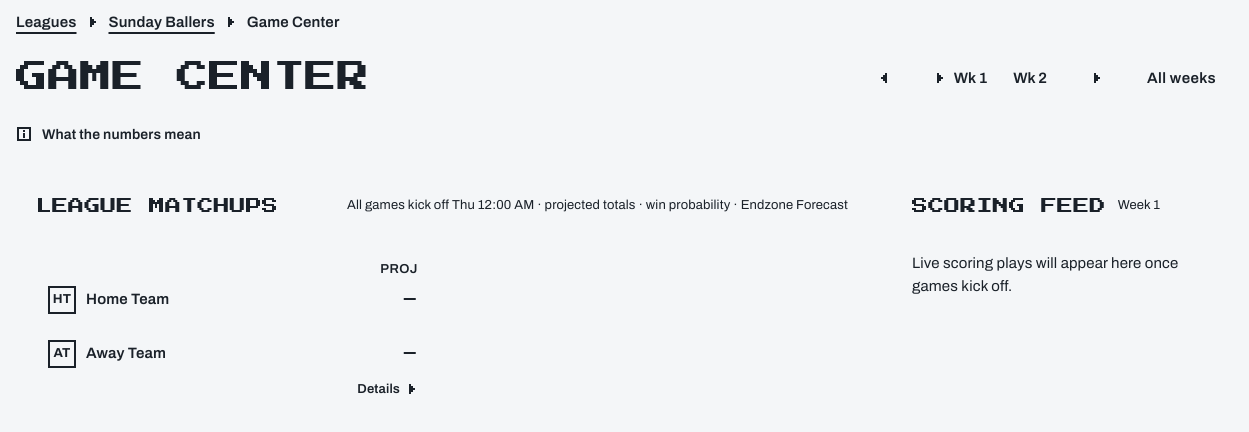
Test case: picking a week filters the grid; All weeks shows every Matchup
Expected: the radio button labelled "Wk 1" is shown, [920, 56, 1001, 100]
Expected: the number of links with test id "matchup-card" is 1, [32, 248, 434, 415]
Step 1. Click the radio button labelled "Wk 2" → (1030, 78), box [999, 56, 1061, 100]
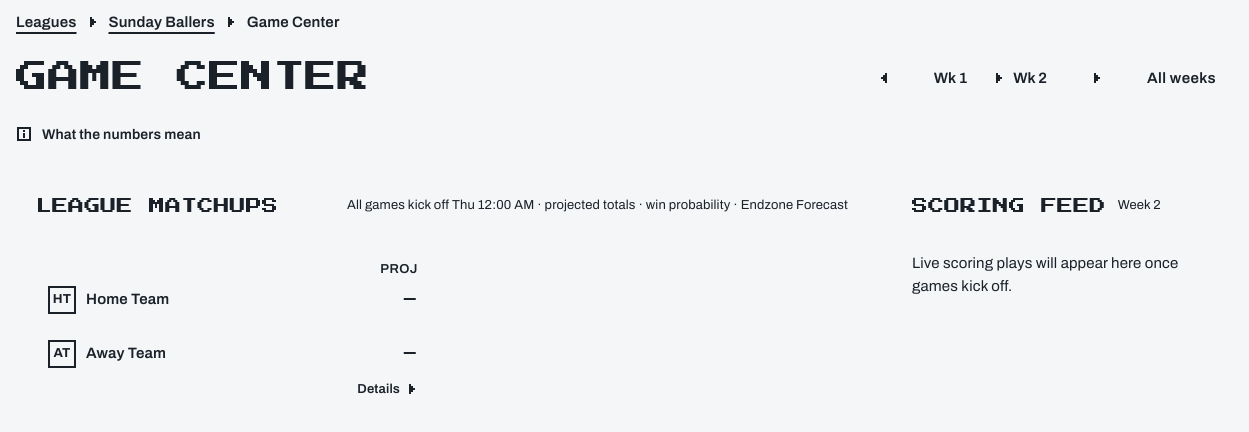
Expected: the number of links with test id "matchup-card" is 1, [32, 248, 434, 415]
Step 2. Click the button "All weeks" → (1181, 78), box [1131, 56, 1232, 100]
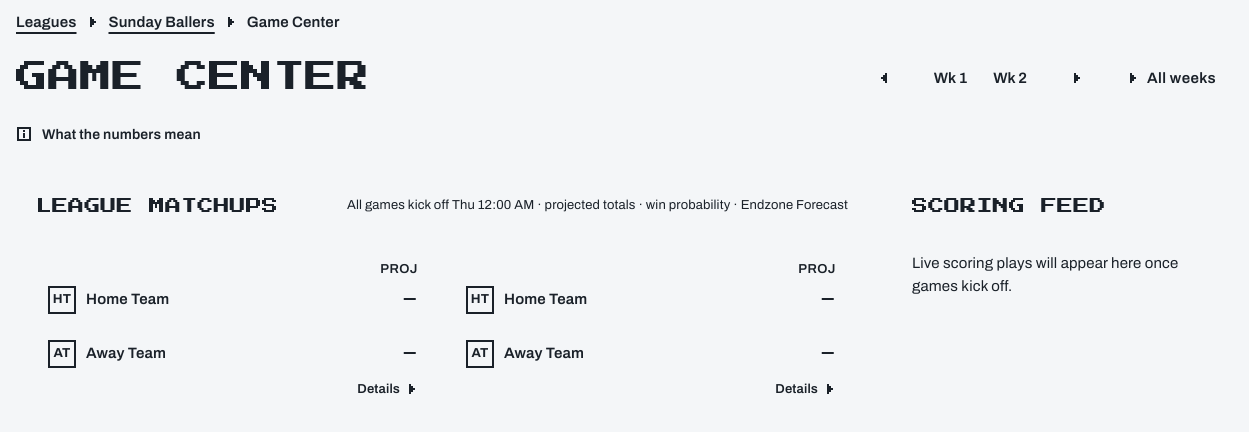
Now the number of links with test id "matchup-card" is 2, box [32, 248, 434, 415]; [450, 248, 852, 415]
